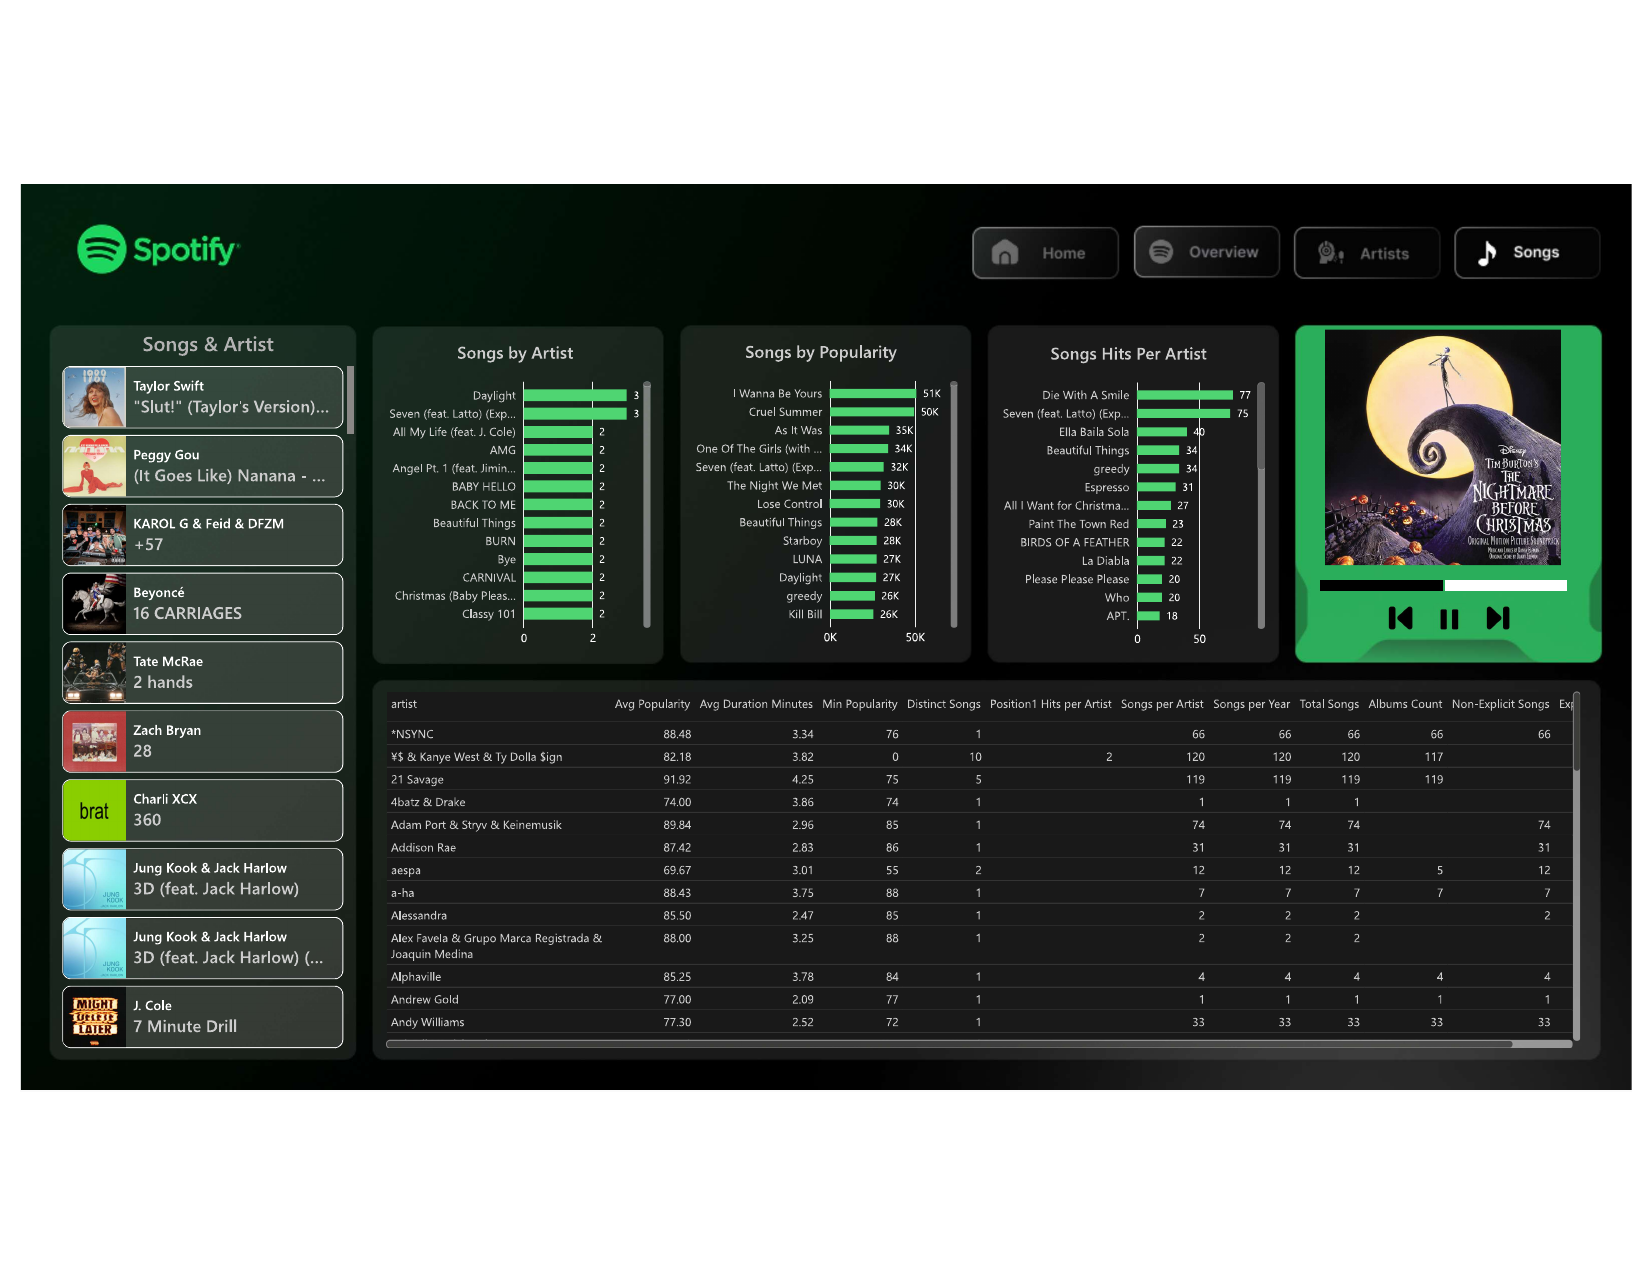

The page's visual inventory and layout, read from the dashboard file:
{"tool":"powerbi","page":{"name":"Songs","canvas":[1920,1080],"ordinal":2},"visuals":[{"type":"actionButton","box":[1709.3,49.1,172.3,63.4],"z":0},{"type":"actionButton","box":[1517.2,49.1,172.3,63.4],"z":1000},{"type":"actionButton","box":[1324.8,47.5,172.3,63.4],"z":2000},{"type":"actionButton","box":[1136.6,49.5,172.3,63.4],"z":3000},{"type":"cardVisual","fields":{"Data":["Min(Top-50-World.album_cover_url)"]},"box":[1483.2,172.3,425.3,280.5],"z":4000},{"type":"hundredPercentStackedBarChart","fields":{"Y":["_Measures.Avg Popularity","Avg(Top-50-World.popularity)"]},"box":[1532.7,427.7,326.7,93.1],"z":5000},{"type":"image","box":[1623.8,501,41.6,29.7],"z":6000},{"type":"image","box":[1740.6,501,39.6,29.7],"z":7000},{"type":"image","box":[1677.2,499,51.5,37.6],"z":8000},{"type":"advancedSlicerVisual","title":"Songs & Artist","fields":{"Values":["Top-50-World.song"]},"box":[49.5,172.3,348.5,857.4],"z":9000},{"type":"clusteredBarChart","title":"Songs by Artist","fields":{"Category":["Top-50-World.song"],"Y":["_Measures.Distinct Artists"]},"box":[412.5,170.8,354.2,400.2],"z":10000},{"type":"clusteredBarChart","title":"Songs by Popularity","fields":{"Category":["Top-50-World.song"],"Y":["Sum(Top-50-World.popularity)"]},"box":[776.2,170.3,356.4,400],"z":11000},{"type":"clusteredBarChart","title":"Songs Hits Per Artist","fields":{"Category":["Top-50-World.song"],"Y":["_Measures.Position1 Hits per Artist"]},"box":[1142.6,172.3,356.4,400],"z":12000},{"type":"tableEx","fields":{"Values":["Top-50-World.artist","_Measures.Avg Popularity","_Measures.Avg Duration Minutes","_Measures.Min Popularity","_Measures.Distinct Songs","_Measures.Position1 Hits per Artist","_Measures.Songs per Artist","_Measures.Songs per Year","_Measures.Total Songs","_Measures.Albums Count","_Measures.Non-Explicit Songs","_Measures.Explicit Songs"]},"box":[419.8,590.1,1455.5,453.5],"z":13000}]}

Visuals, with their boxes on the page's 1920x1080 design canvas (x1, y1, x2, y2). These are canvas units, not pixel positions in the 1650x1275 screenshot, which may show the page scaled, cropped or inside an application window:
actionButton: box(1709, 49, 1882, 112)
actionButton: box(1517, 49, 1690, 112)
actionButton: box(1325, 48, 1497, 111)
actionButton: box(1137, 50, 1309, 113)
cardVisual - Min(Top-50-World.album_cover_url): box(1483, 172, 1908, 453)
hundredPercentStackedBarChart - _Measures.Avg Popularity x Avg(Top-50-World.popularity): box(1533, 428, 1859, 521)
image: box(1624, 501, 1665, 531)
image: box(1741, 501, 1780, 531)
image: box(1677, 499, 1729, 537)
"Songs & Artist" advancedSlicerVisual: box(50, 172, 398, 1030)
"Songs by Artist" clusteredBarChart: box(412, 171, 767, 571)
"Songs by Popularity" clusteredBarChart: box(776, 170, 1133, 570)
"Songs Hits Per Artist" clusteredBarChart: box(1143, 172, 1499, 572)
tableEx - Top-50-World.artist x _Measures.Avg Popularity: box(420, 590, 1875, 1044)
